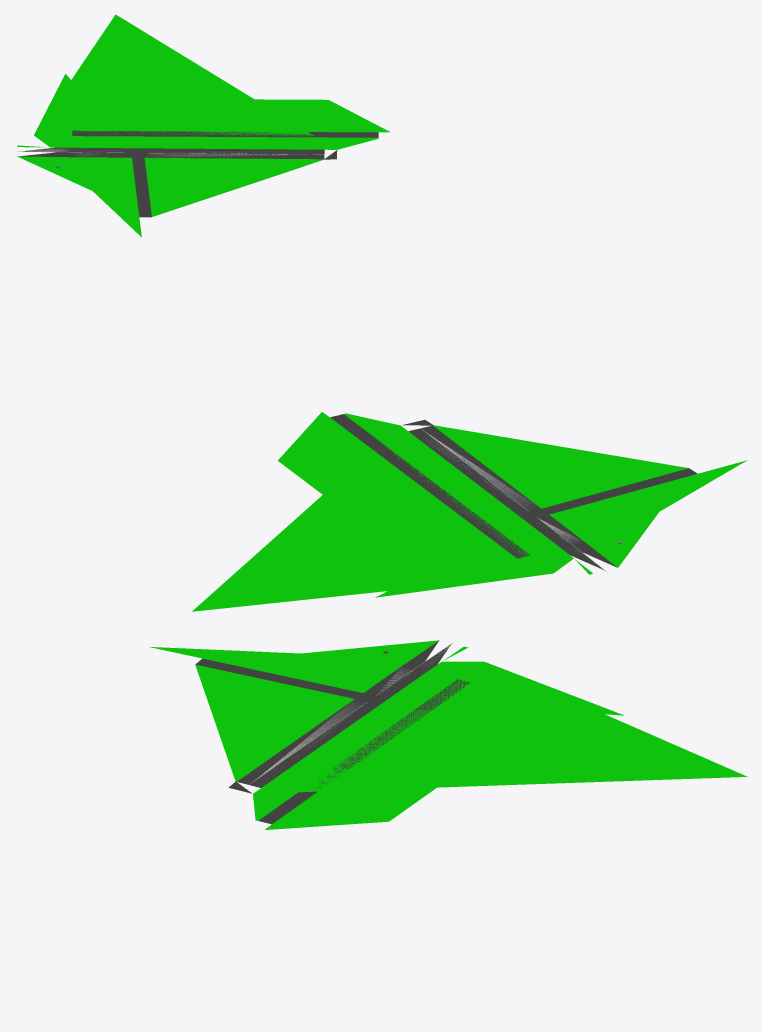
3 renders of one model, top to bottom at view 1: azimuth 30°, elevation 25°; view 2: azimuth 150°, elevation 25°; view 3: azimuth 270°, elevation 25°, orthographic. The views are drawn at different scales.
Size of the model in its own units: 223 by 0.1 by 183.
